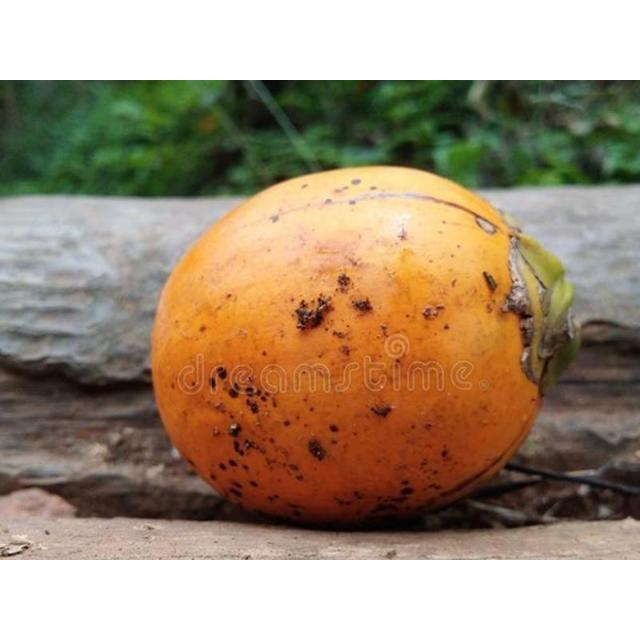good: (149, 166, 580, 532)
